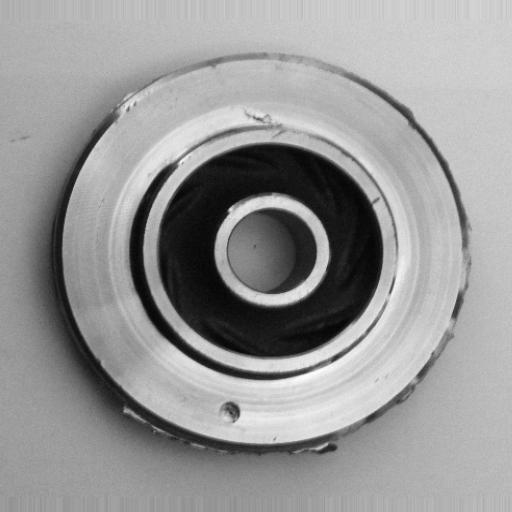casting_with_burr: (53, 49, 477, 459)
crack: (242, 105, 305, 142)
pit: (208, 396, 252, 427)
scratch: (217, 189, 296, 221)
